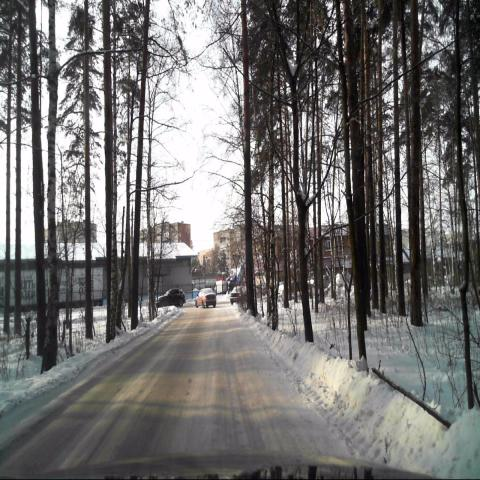2_4: (232, 256, 240, 268)
